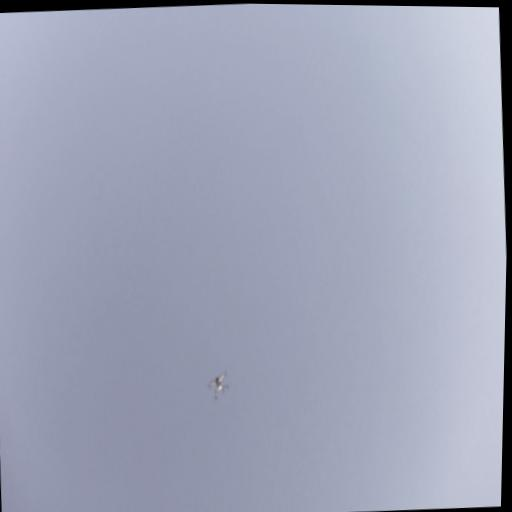drones: (203, 366, 232, 403)
